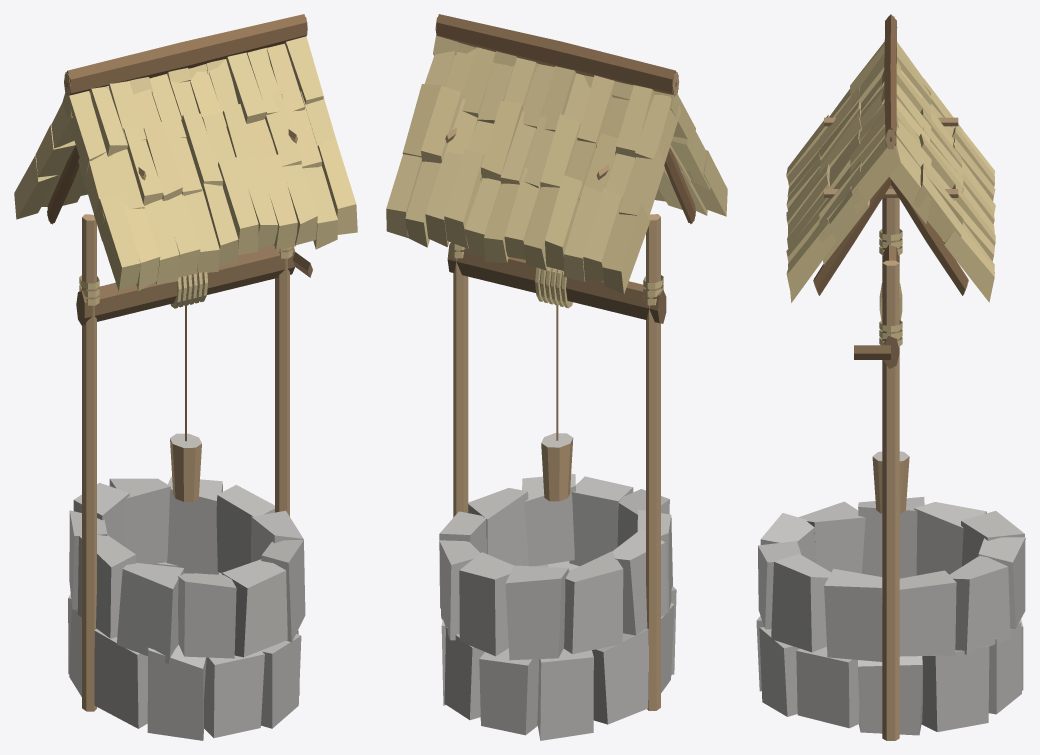
File: building_well_complete.glb
The picture shows the model from 3 angles, left to right: view 1: azimuth 30°, elevation 25°; view 2: azimuth 150°, elevation 25°; view 3: azimuth 270°, elevation 25°; orthographic projection. The views are drawn at different scales.
Visible parts, largest first — view 1: building_well_complete; view 2: building_well_complete; view 3: building_well_complete.
Part boxes in pixels (x1=…): building_well_complete: x1=14, y1=14, x2=357, y2=740; building_well_complete: x1=386, y1=14, x2=727, y2=740; building_well_complete: x1=756, y1=14, x2=1025, y2=740.
Size of the model in its own units: 1 by 2.56 by 1.
